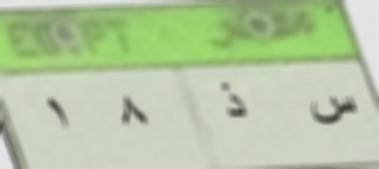1: (45, 93, 76, 135)
8: (113, 92, 153, 134)
seen: (307, 93, 360, 131)
zaal: (217, 79, 250, 124)
